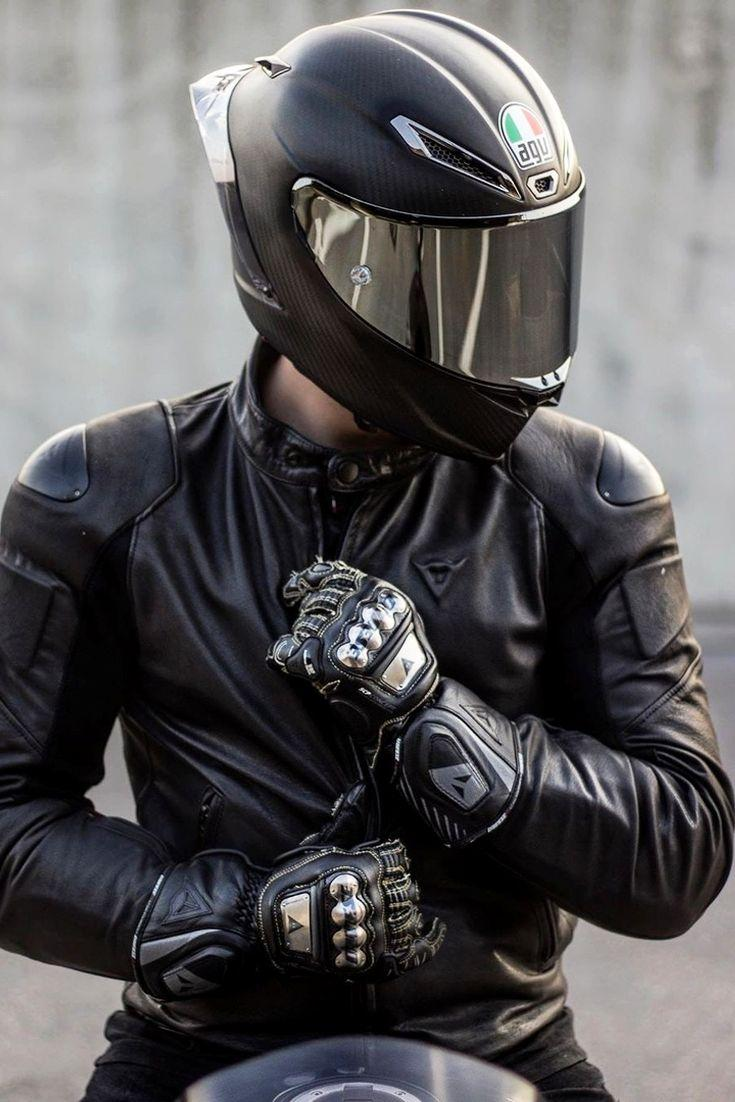Helmet: (191, 9, 584, 461)
